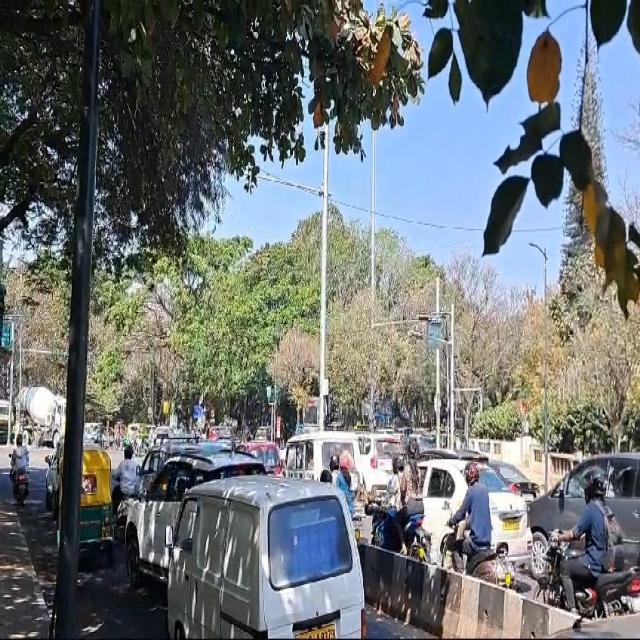cars: (169, 479, 366, 640), (126, 447, 266, 591), (522, 455, 640, 583), (413, 458, 535, 578), (285, 433, 364, 501)
